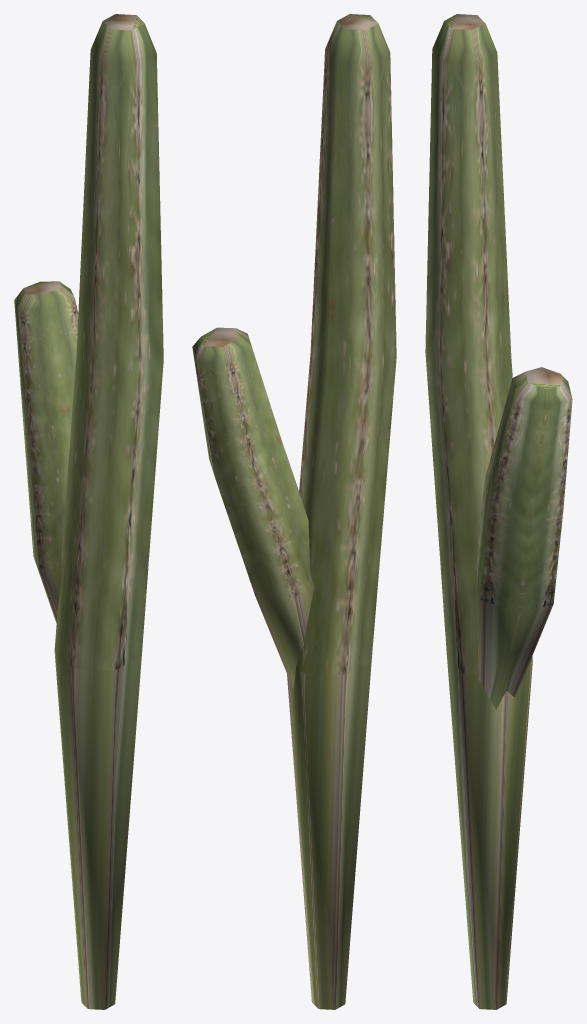
Rendered from cactus_stenocerus_small_c.dae.
3 views of the same model, side by side, from view 1: azimuth 90°, elevation 25°; view 2: azimuth 150°, elevation 25°; view 3: azimuth 270°, elevation 25° (orthographic).
Parts seen in each view (by area): view 1: Cylinder_002; view 2: Cylinder_002; view 3: Cylinder_002.
Boxes of the visible parts, left/top/right/bottom form: Cylinder_002: left=14, top=14, right=163, bottom=1009; Cylinder_002: left=192, top=14, right=396, bottom=1009; Cylinder_002: left=425, top=14, right=572, bottom=1009.
Bounding box in the file's own units: 2.14 × 1.74 × 12.73.
